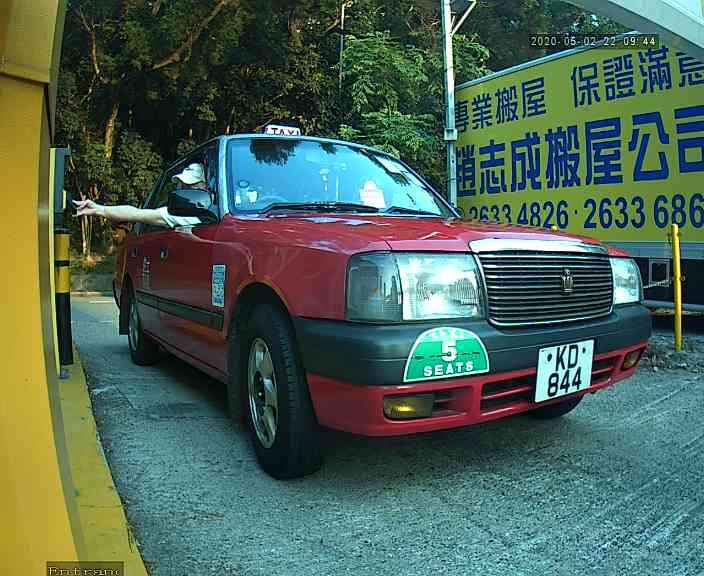Car: (107, 26, 661, 498)
License Plate: (528, 334, 599, 408)
